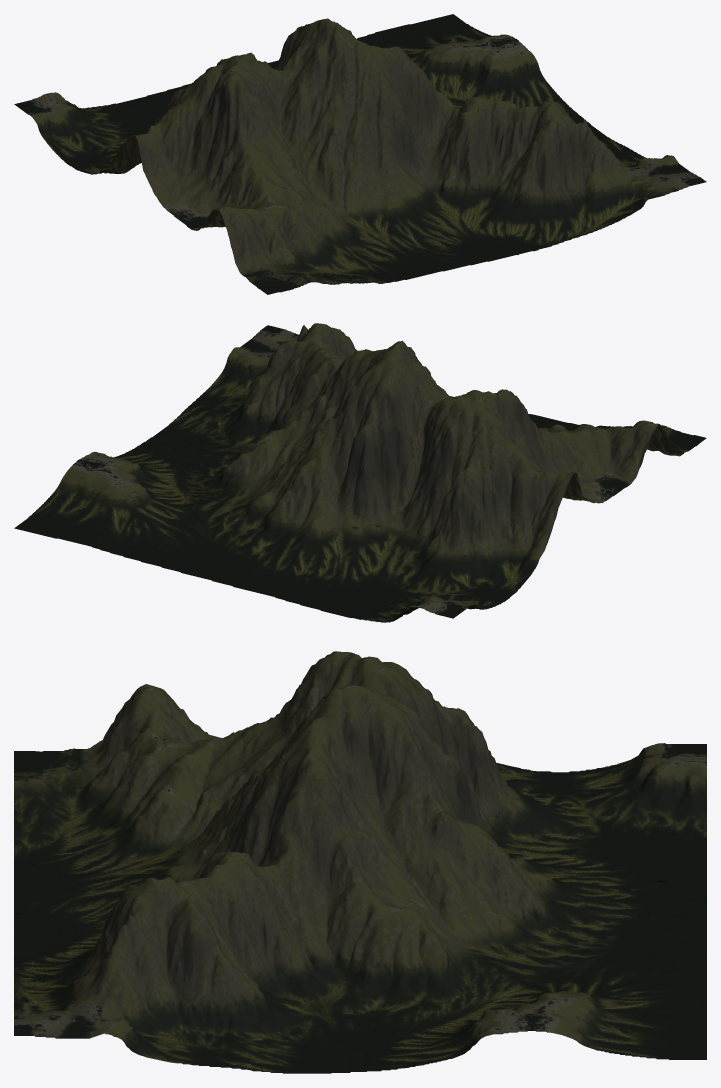
Rendered from SM_mountBackA_a1.fbx.
3 renders of one model, top to bottom at view 1: azimuth 30°, elevation 25°; view 2: azimuth 150°, elevation 25°; view 3: azimuth 270°, elevation 25°, orthographic. The views are drawn at different scales.
Parts seen in each view (by area): view 1: SM_mountBackA_a1_LOD0; view 2: SM_mountBackA_a1_LOD0; view 3: SM_mountBackA_a1_LOD0.
Boxes of the visible parts, left/top/right/bottom form: SM_mountBackA_a1_LOD0: left=14, top=14, right=706, bottom=294; SM_mountBackA_a1_LOD0: left=14, top=323, right=706, bottom=622; SM_mountBackA_a1_LOD0: left=14, top=651, right=706, bottom=1073.
Bounding box in the file's own units: 20000 × 20000 × 6981.
Materials: 1 (1 with a texture image).
